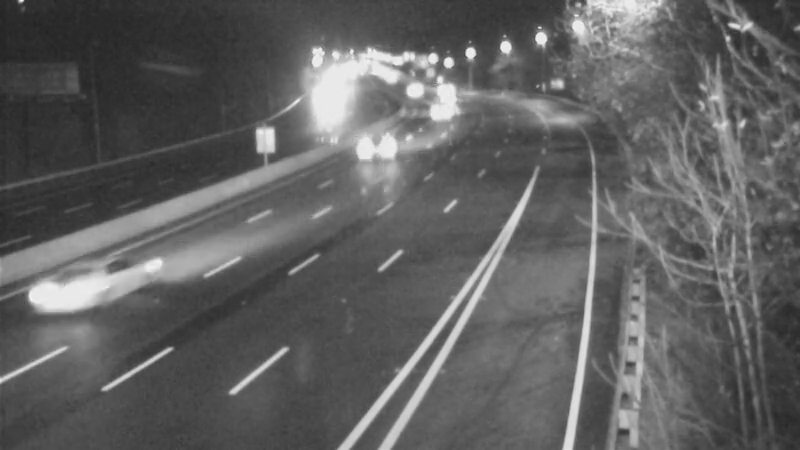vehicle: (39, 243, 119, 323), (387, 65, 437, 115), (417, 64, 467, 114), (422, 75, 472, 125), (415, 88, 465, 138), (348, 123, 398, 173), (299, 88, 349, 138)
